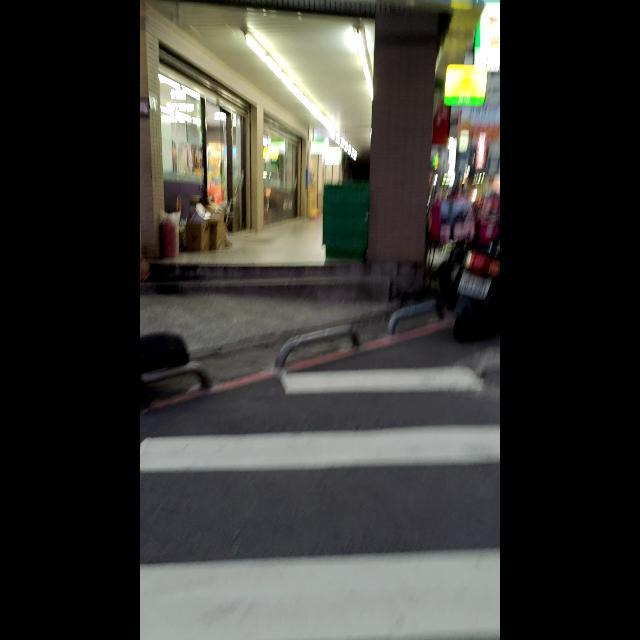sidewalk: (141, 366, 500, 639)
